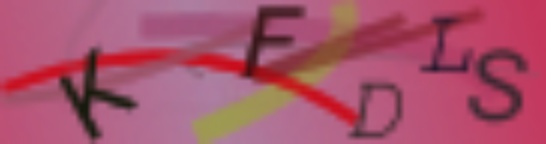D: (346, 80, 405, 143)
F: (241, 1, 313, 82)
K: (55, 45, 143, 142)
L: (417, 16, 474, 76)
S: (467, 45, 530, 123)
